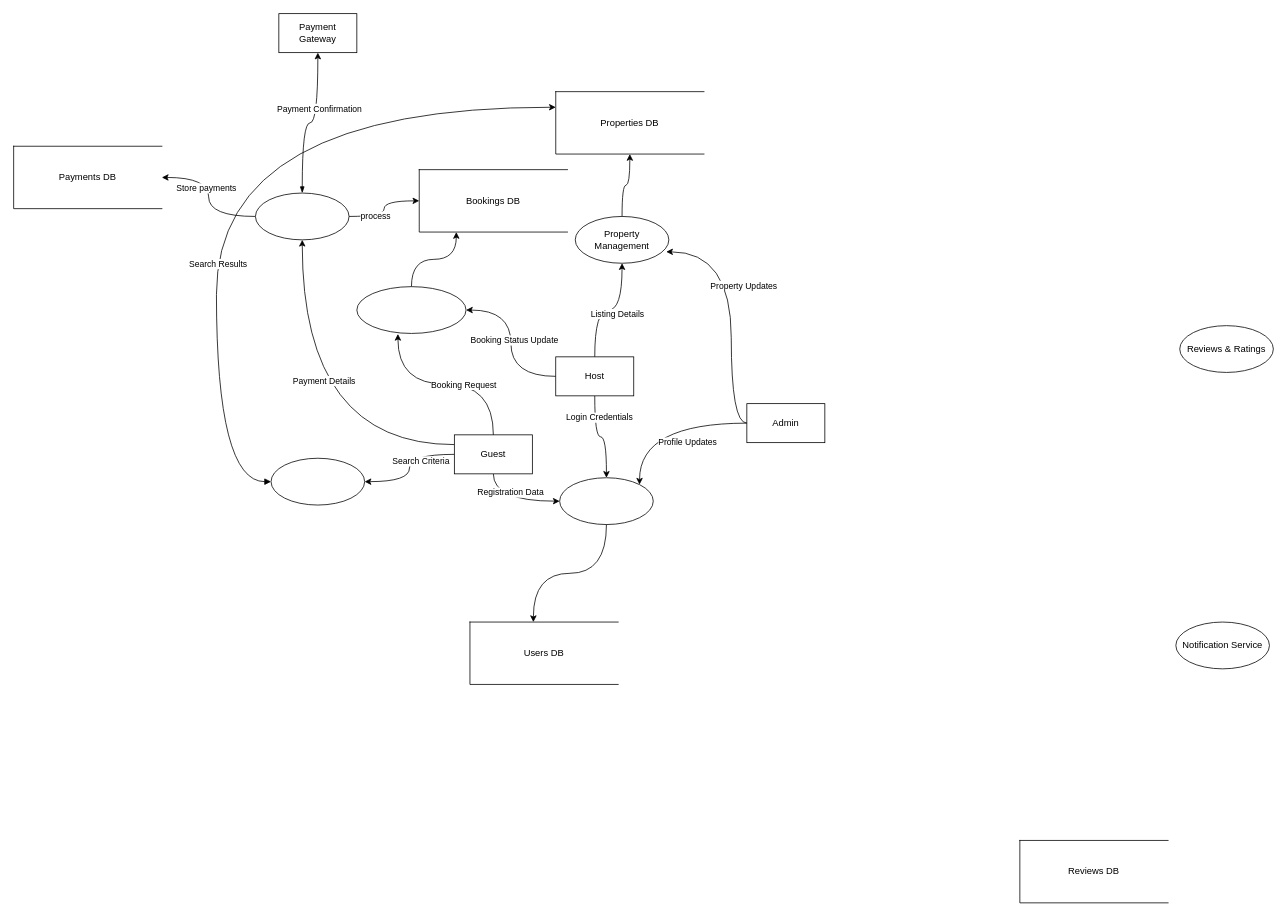
Image size: 1287x916. Some labels were removed from this diagram. Each missing label, with the centre of its shape:
"Booking Management" goes at pixel 411 309.
"Payment Processing" goes at pixel 302 216.
"Search & Filtering" goes at pixel 317 481.
"User Management" goes at pixel 606 501.
